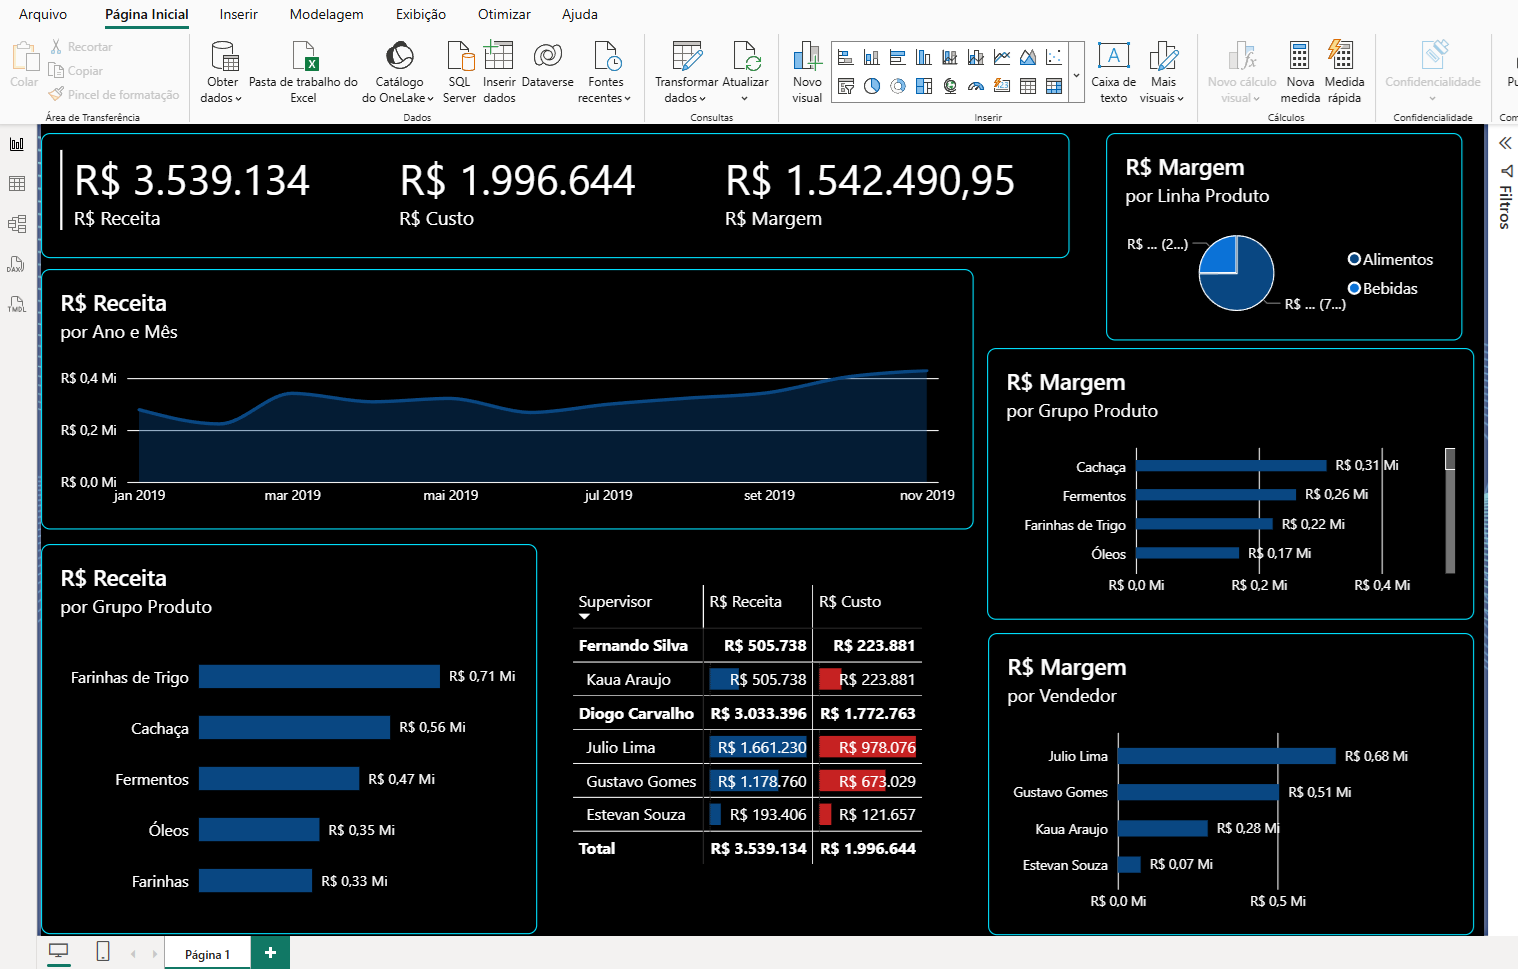

This screenshot's page, from the dashboard's own definition file:
{"tool":"powerbi","page":{"name":"Página 1","canvas":[1280,720],"ordinal":0},"visuals":[{"type":"multiRowCard","fields":{"Values":["Vendas.R$ Receita","Vendas.R$ Custo","Vendas.R$ Margem"]},"box":[0,8.1,912.1,110.9],"z":0},{"type":"pivotTable","fields":{"Rows":["Vendas.Supervisor","Vendas.Vendedor"],"Values":["Vendas.R$ Receita","Vendas.R$ Custo"]},"box":[455.8,394.6,400.8,301.5],"z":1000},{"type":"barChart","fields":{"Category":["Produto.Grupo Produto"],"Y":["Vendas.R$ Receita"]},"box":[0,372.4,439.8,345.8],"z":2000},{"type":"areaChart","fields":{"Category":["Vendas.Data.Variation.Hierarquia de datas.Ano","Vendas.Data.Variation.Hierarquia de datas.Mês","Vendas.Data.Variation.Hierarquia de datas.Dia"],"Y":["Vendas.R$ Receita"]},"box":[0,129,827.5,230.8],"z":3000},{"type":"pieChart","fields":{"Category":["Produto.Linha Produto"],"Y":["Vendas.R$ Margem"]},"box":[944.4,8.1,316.5,184.4],"z":4000},{"type":"barChart","fields":{"Category":["Produto.Grupo Produto"],"Y":["Vendas.R$ Margem"]},"box":[839.1,198.8,431.6,240.9],"z":5000},{"type":"barChart","fields":{"Category":["Vendas.Vendedor"],"Y":["Vendas.R$ Margem"]},"box":[839.6,451.5,431.4,268.1],"z":6000}]}

Visuals, with their boxes in screenshot pixels (x1, y1, x2, y2):
multiRowCard - Vendas.R$ Receita x Vendas.R$ Custo: <region>32, 124, 1061, 249</region>
pivotTable - Vendas.Supervisor x Vendas.Vendedor: <region>546, 560, 998, 900</region>
barChart - Produto.Grupo Produto x Vendas.R$ Receita: <region>32, 535, 528, 925</region>
areaChart - Vendas.Data.Variation.Hierarquia de datas.Ano x Vendas.Data.Variation.Hierarquia de datas.Mês: <region>32, 260, 965, 521</region>
pieChart - Produto.Linha Produto x Vendas.R$ Margem: <region>1097, 124, 1454, 332</region>
barChart - Produto.Grupo Produto x Vendas.R$ Margem: <region>978, 339, 1465, 611</region>
barChart - Vendas.Vendedor x Vendas.R$ Margem: <region>979, 624, 1465, 926</region>
